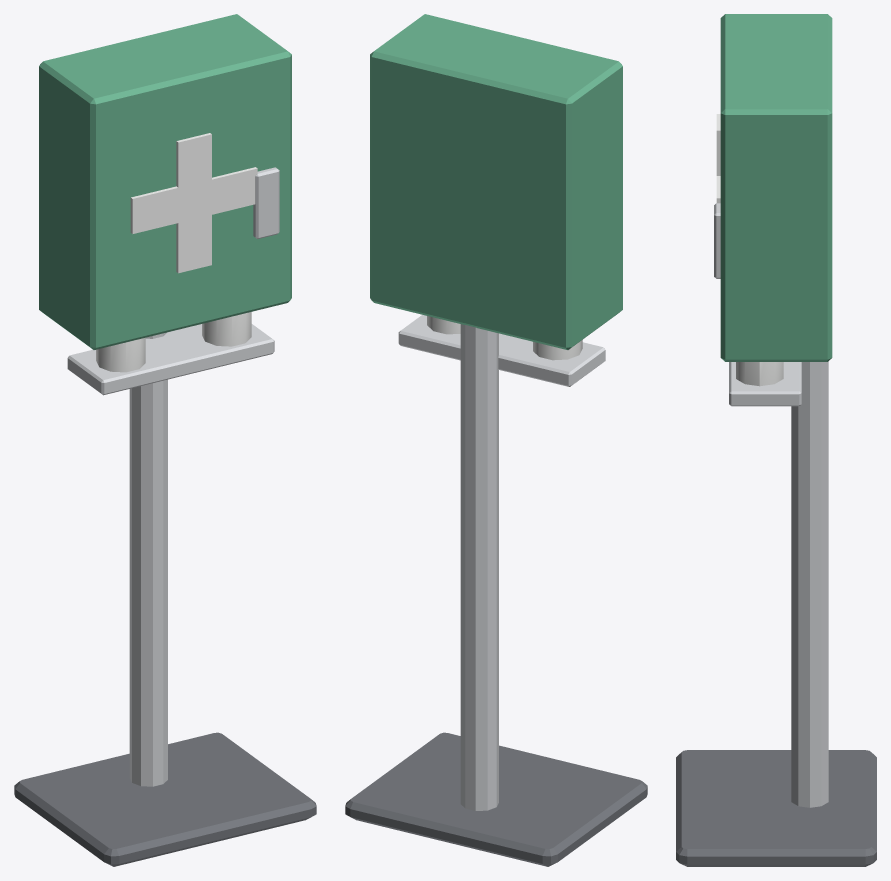
Rendered from community-sports-hall-and-changing-rooms-first-aid-poi-96ad5f66__35112.glb.
3 renders of one model, left to right at view 1: azimuth 30°, elevation 25°; view 2: azimuth 150°, elevation 25°; view 3: azimuth 270°, elevation 25°, orthographic.
Parts seen in each view (by area): view 1: first-aid-point; view 2: first-aid-point; view 3: first-aid-point.
Boxes of the visible parts, bbox=[...] form: first-aid-point: bbox=[14, 14, 316, 866]; first-aid-point: bbox=[345, 14, 647, 866]; first-aid-point: bbox=[676, 14, 876, 866].
Size of the model in its own units: 0.44 by 1.5 by 0.36.
